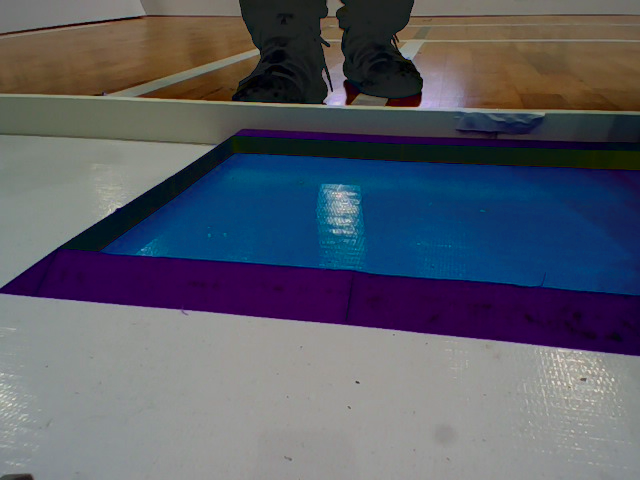kuang: (5, 112, 640, 361)
